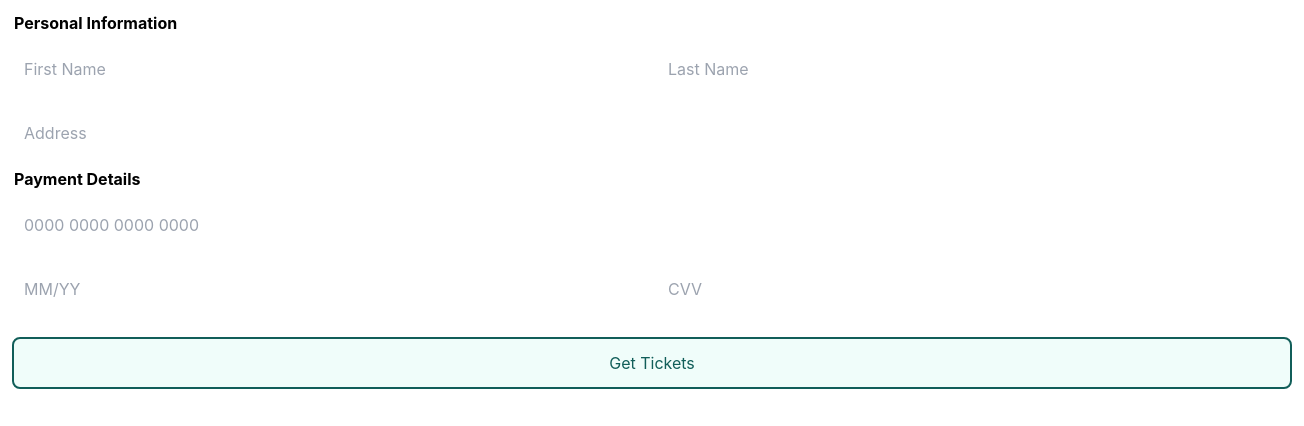
Scenario: PersonalInformationForm › shows error when last name contains non-letters
This screenshot has width=1304, height=426.
Type "Fiona123" into the field with placeholder "Last Name" at (974, 69), box [656,45,1292,93]
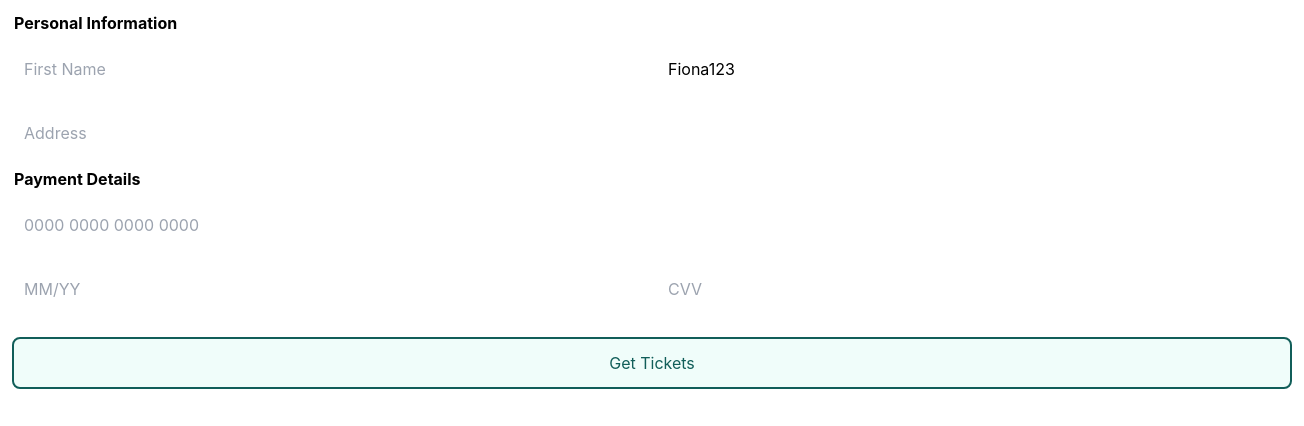
Leave the field with placeholder "Last Name", box [656,45,1292,93]
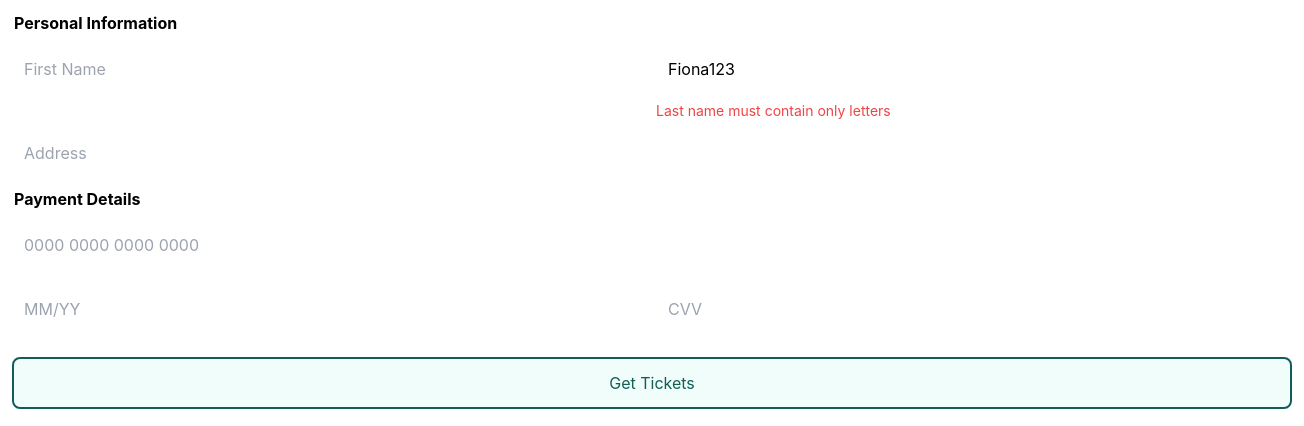
Expected: the text "Last name must contain only letters" is shown, [656,102,891,119]
